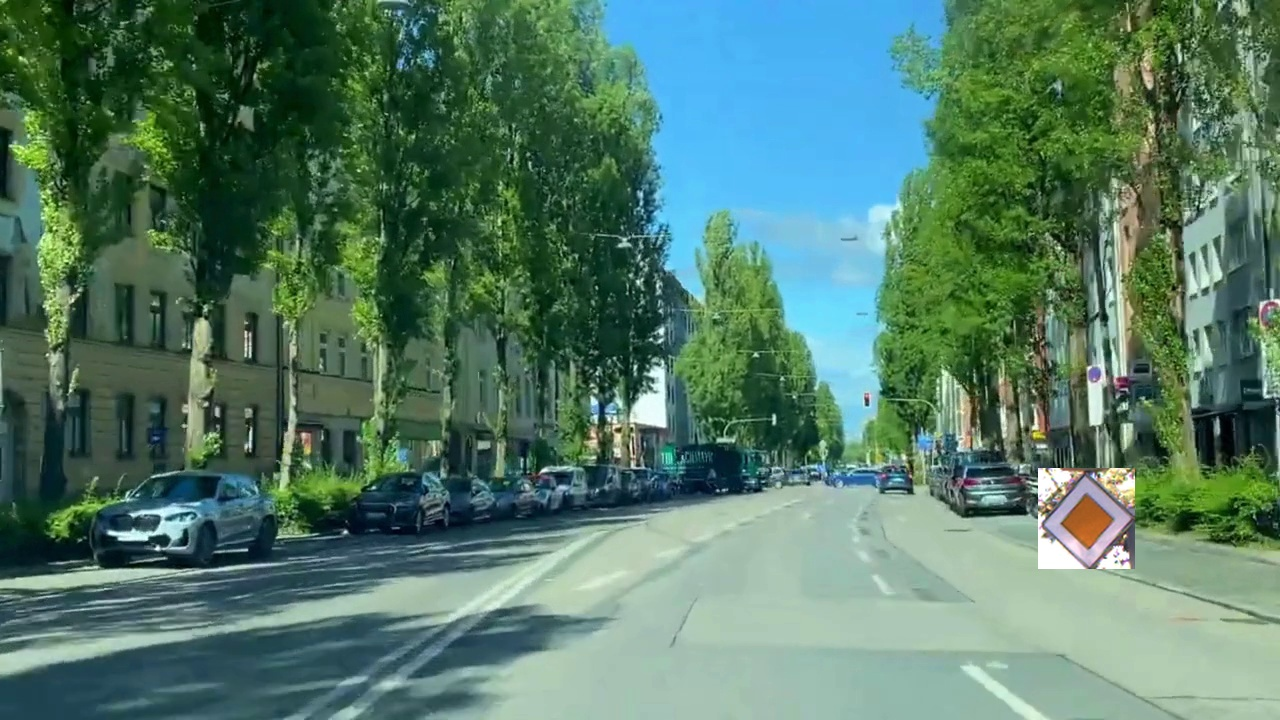Priority road: (1038, 468, 1135, 569)
